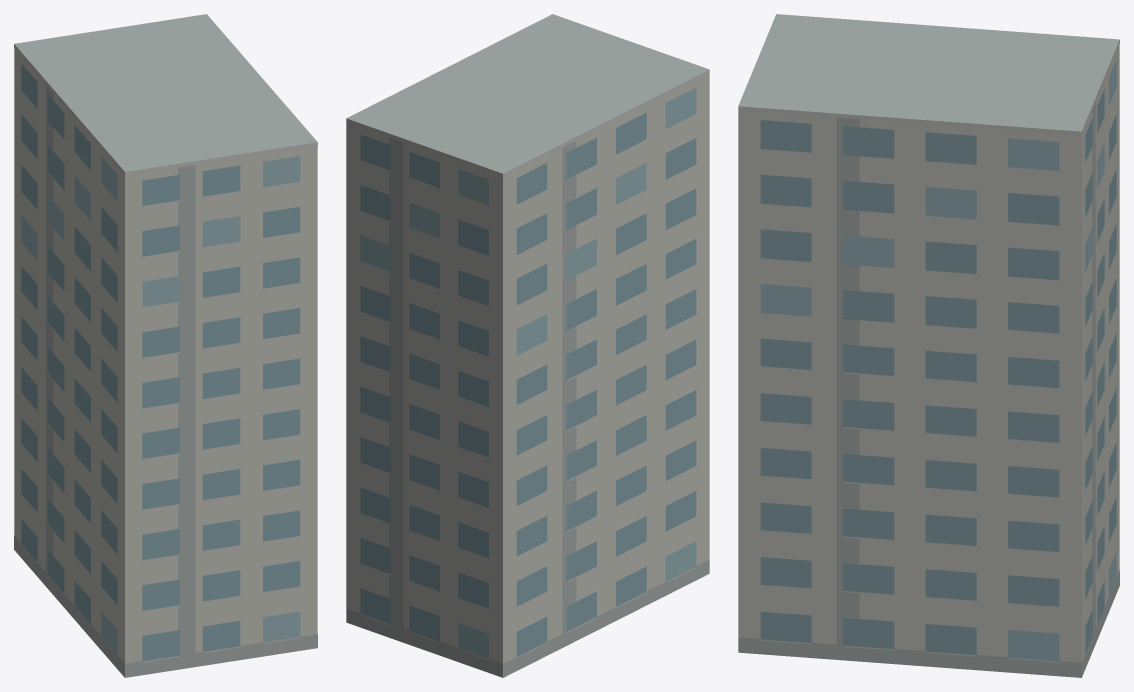
File: residential-3900dca7-b560-4dee-b6c3-1582243d83fa.glb
The picture shows the model from 3 angles, left to right: view 1: azimuth 30°, elevation 25°; view 2: azimuth 150°, elevation 25°; view 3: azimuth 270°, elevation 25°; orthographic projection. The views are drawn at different scales.
Parts seen in each view (by area): view 1: residential-3900dca7-b560-4dee-b6c3-1582243d83fa.tmp; view 2: residential-3900dca7-b560-4dee-b6c3-1582243d83fa.tmp; view 3: residential-3900dca7-b560-4dee-b6c3-1582243d83fa.tmp.
Boxes of the visible parts, box(x1,y1,x2,y2) form: residential-3900dca7-b560-4dee-b6c3-1582243d83fa.tmp: box(14, 14, 317, 677); residential-3900dca7-b560-4dee-b6c3-1582243d83fa.tmp: box(346, 14, 709, 677); residential-3900dca7-b560-4dee-b6c3-1582243d83fa.tmp: box(738, 14, 1119, 677).
Size of the model in its own units: 14.32 by 31 by 19.64.
